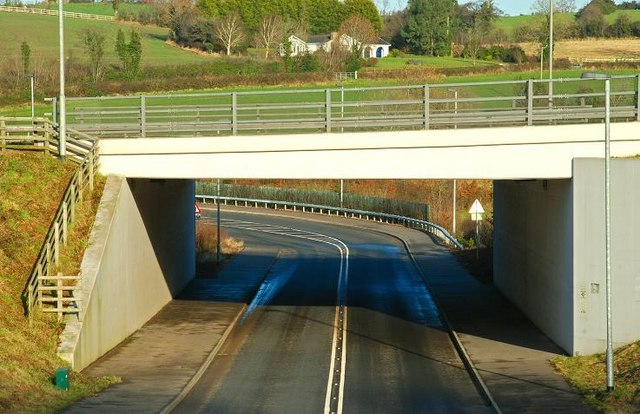bridge: (45, 94, 640, 182)
